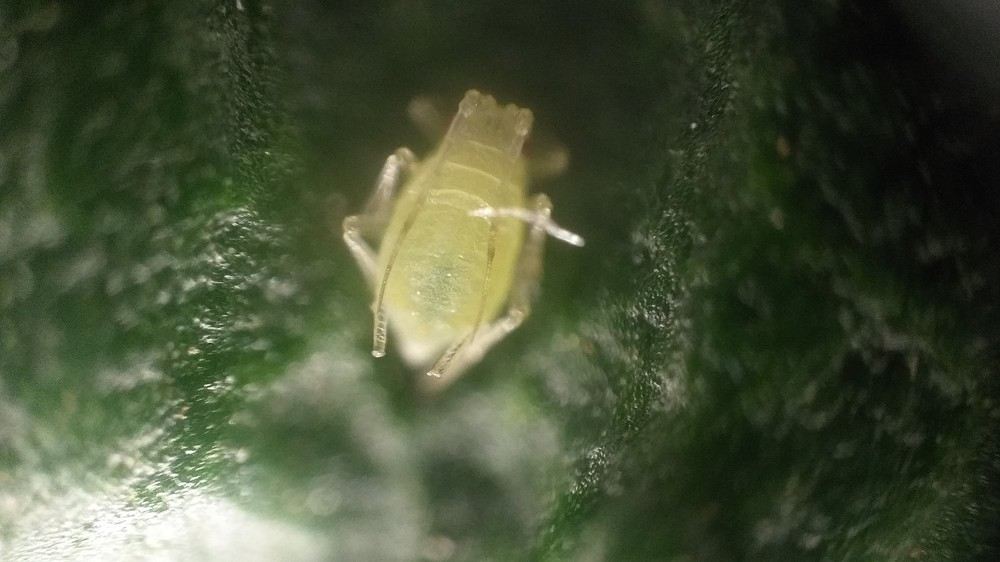Pulgon: (326, 78, 606, 401)
